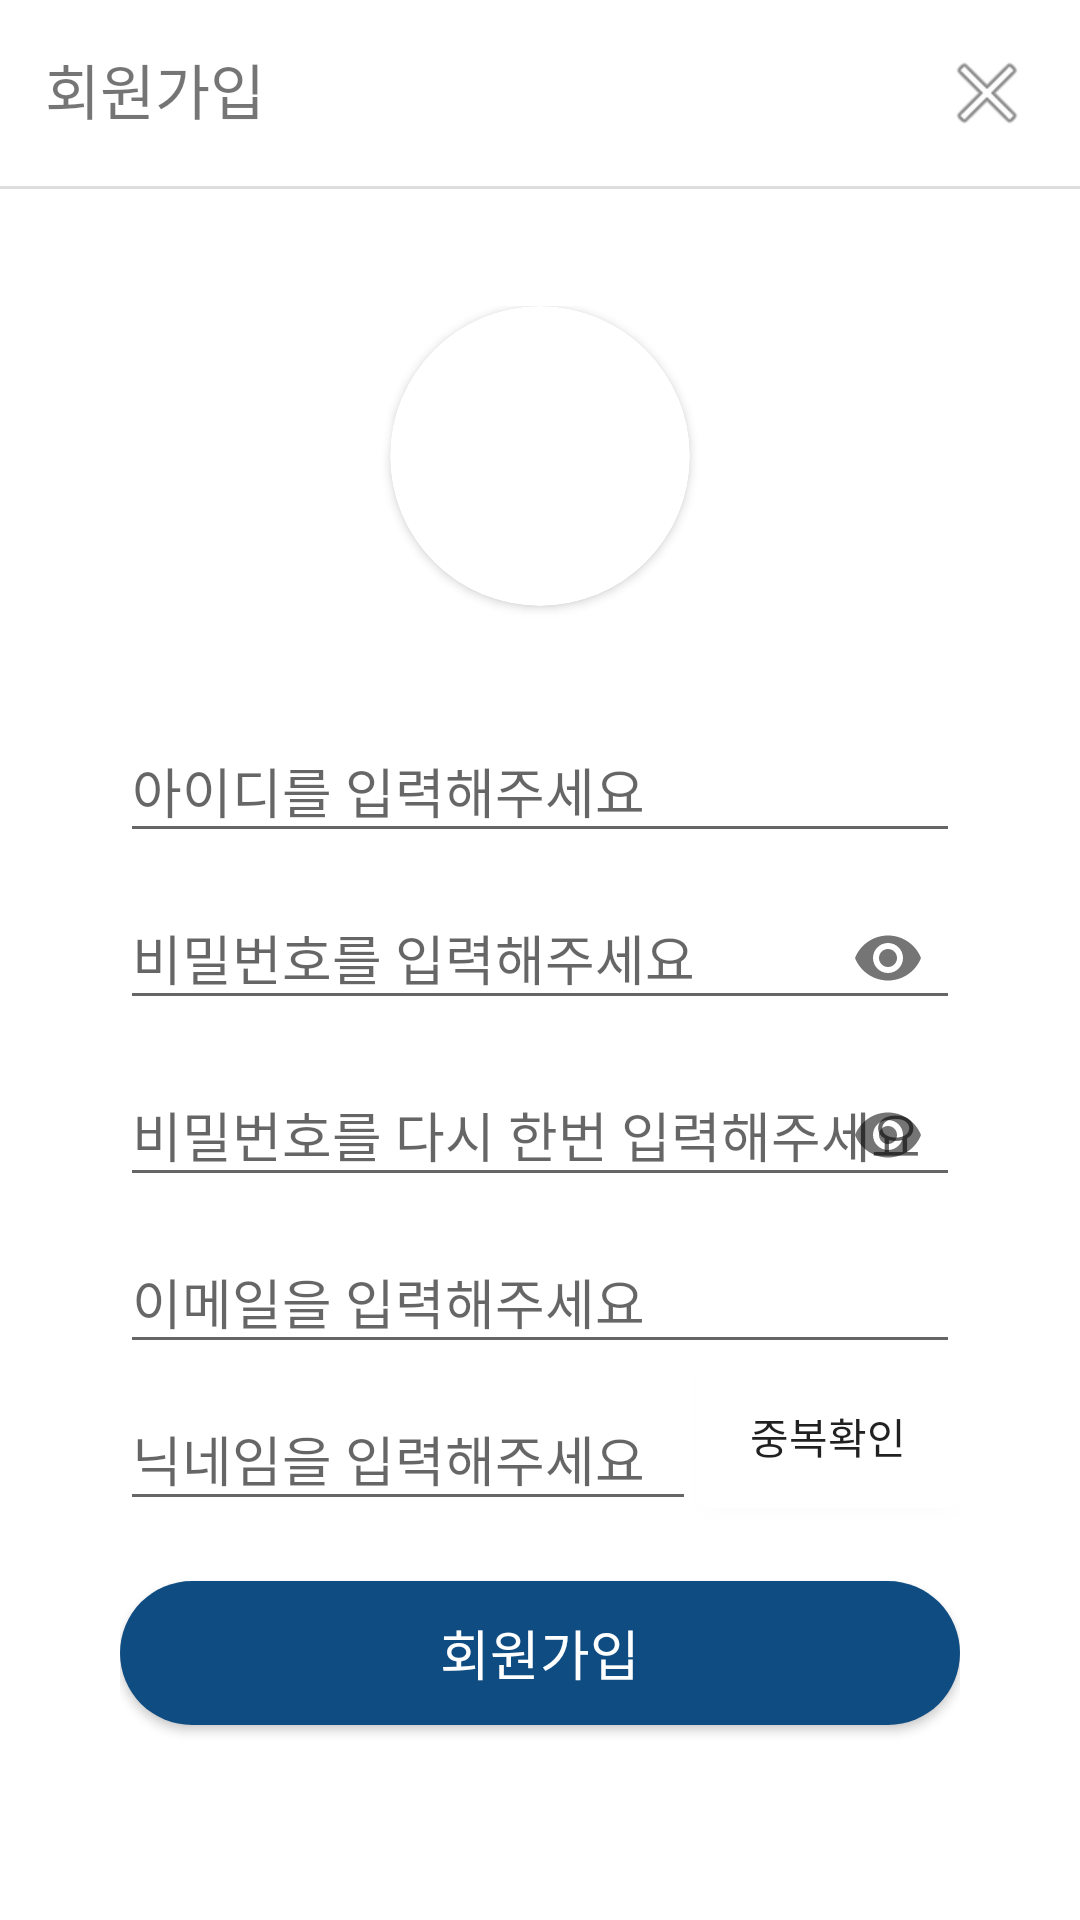

Locate icon controls on the screen. Image size 1080x1920, boxes as (x1, y1, x2, y2).
close clear cancel: (957, 63, 1017, 123)
